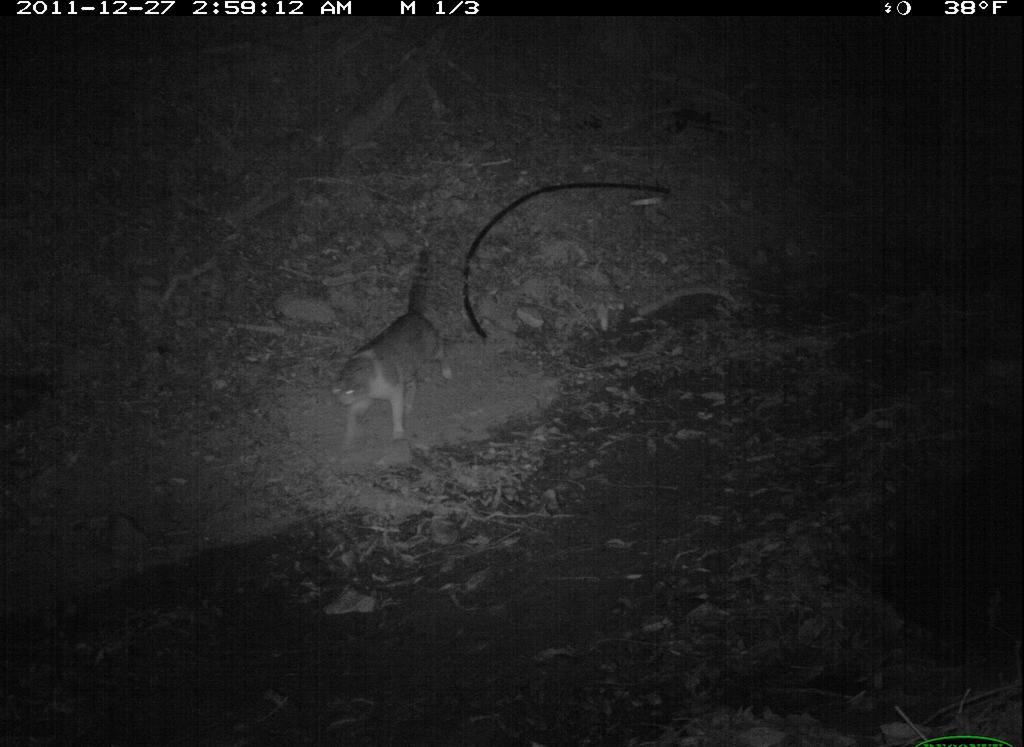cat: (323, 235, 457, 447)
